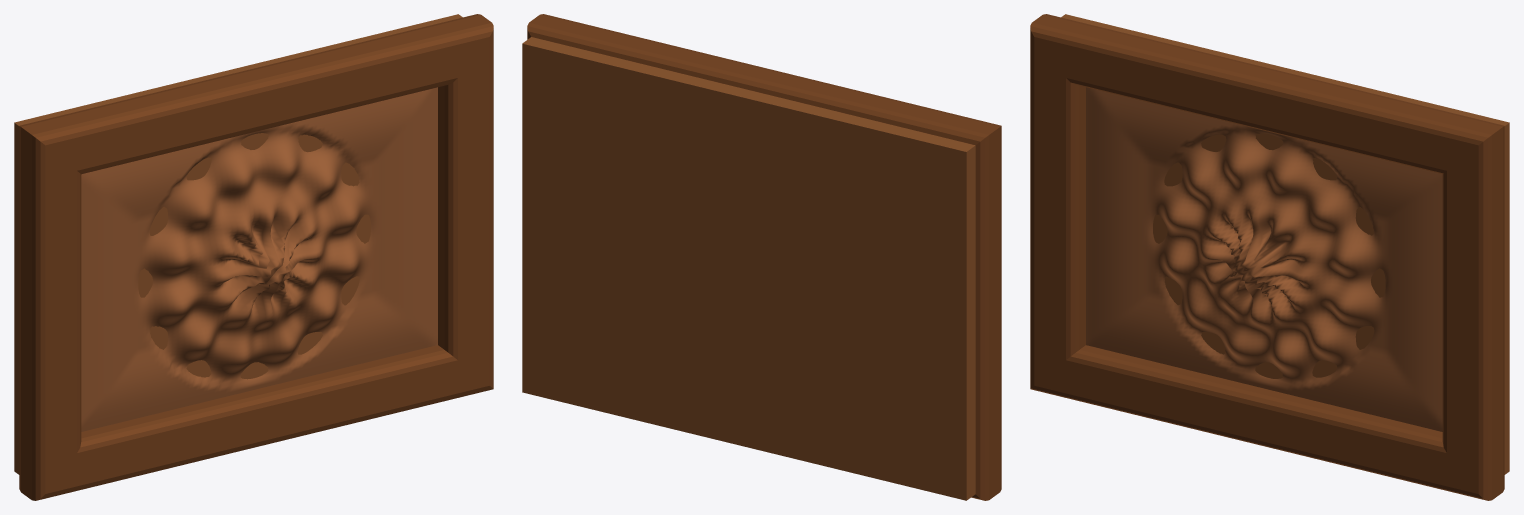
File: relief-wood.glb
The picture shows the model from 3 angles, left to right: view 1: azimuth 30°, elevation 25°; view 2: azimuth 150°, elevation 25°; view 3: azimuth 330°, elevation 25°; orthographic projection.
Size of the model in its own units: 0.29 by 0.22 by 0.0465.
